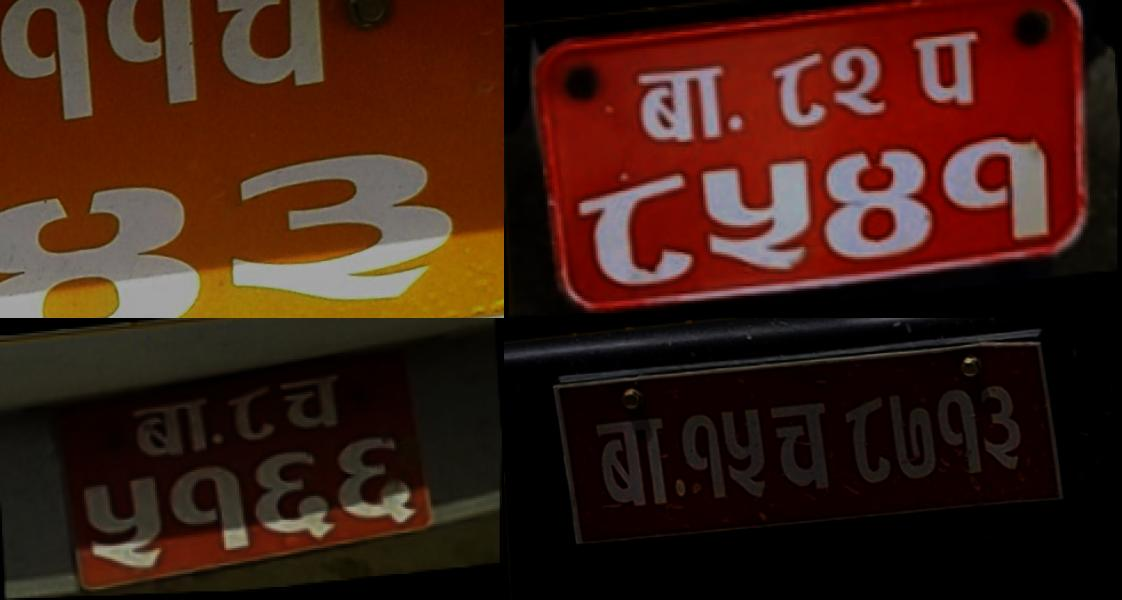1: (936, 127, 1068, 260), (0, 0, 104, 147), (95, 0, 207, 125), (164, 462, 254, 562), (676, 403, 732, 511), (934, 384, 988, 488)
2: (828, 40, 892, 126)
3: (209, 138, 465, 318), (977, 381, 1029, 482)
4: (0, 173, 215, 318), (812, 144, 937, 268)
5: (692, 155, 821, 284), (76, 468, 170, 579), (719, 399, 777, 509)
6: (245, 444, 339, 552), (332, 432, 420, 532)
7: (886, 386, 941, 490)
8: (564, 171, 700, 300), (837, 390, 896, 494), (765, 52, 834, 137), (220, 384, 284, 448)
ba: (586, 409, 679, 520), (632, 58, 731, 156), (123, 396, 217, 466)
cha: (201, 0, 351, 113), (766, 396, 837, 504), (277, 366, 356, 444)
pa: (908, 30, 993, 121)
